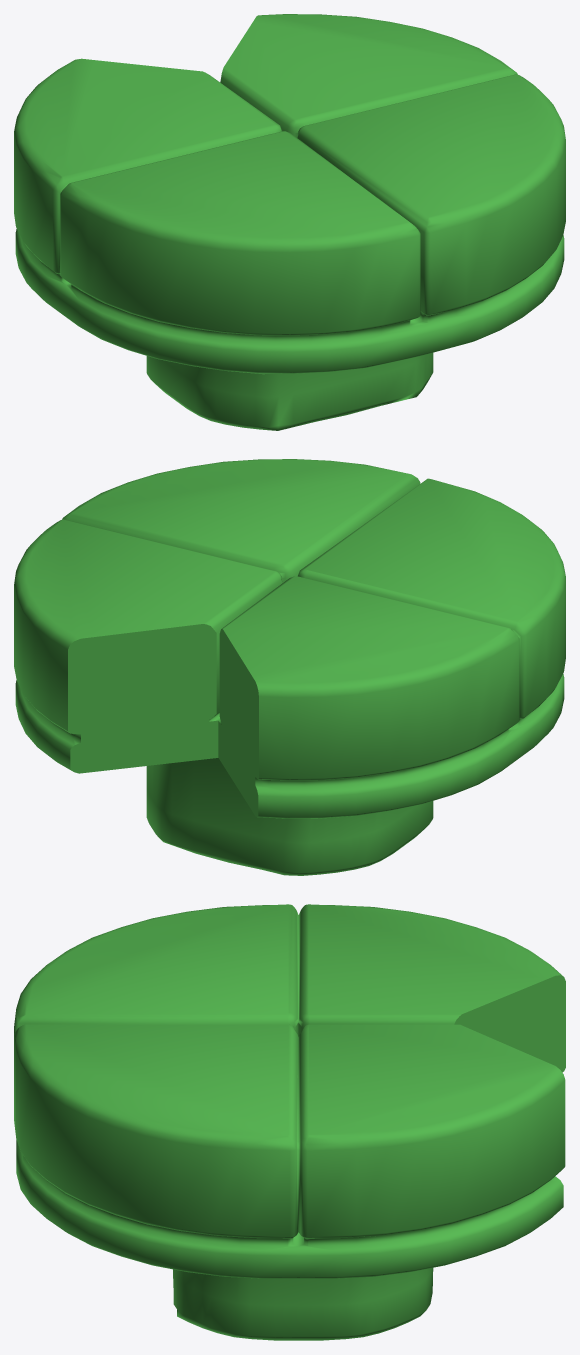
Rendered from duckweed.glb.
The picture shows the model from 3 angles, top to bottom: view 1: azimuth 30°, elevation 25°; view 2: azimuth 150°, elevation 25°; view 3: azimuth 270°, elevation 25°; orthographic projection. The views are drawn at different scales.
Visible parts, largest first — view 1: duckweed; view 2: duckweed; view 3: duckweed.
Part boxes in pixels (<box>): duckweed: <box>14,14,565,430</box>; duckweed: <box>14,459,565,875</box>; duckweed: <box>14,904,565,1340</box>.
Bounding box in the file's own units: 0.139 × 0.0709 × 0.1347.
